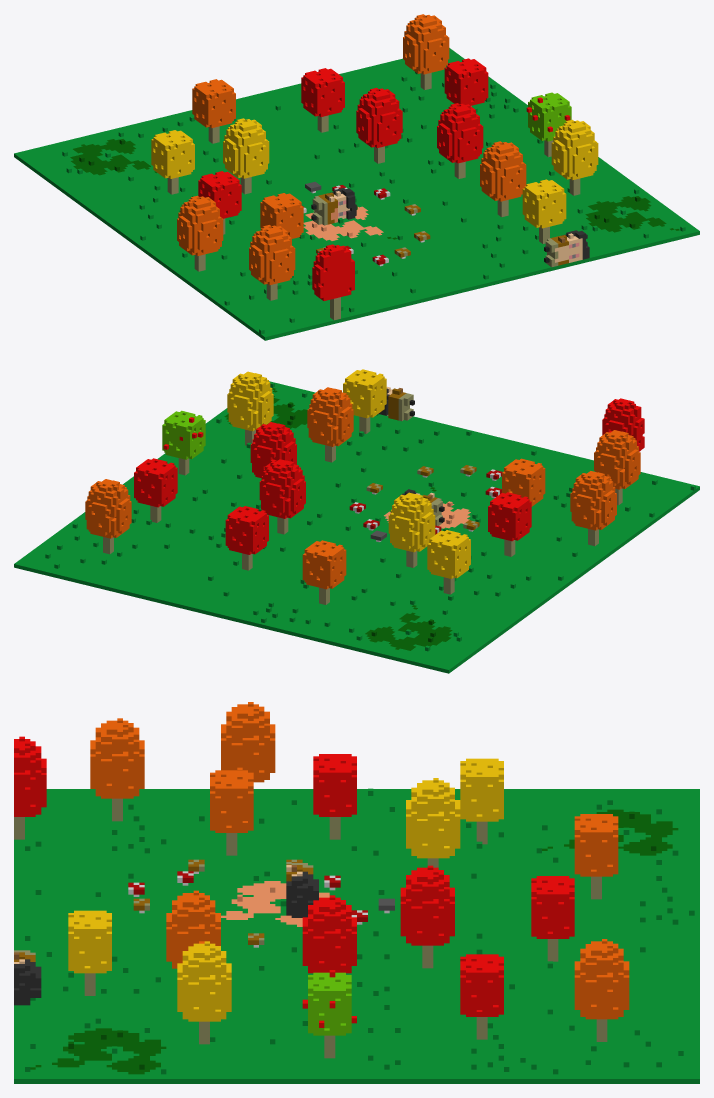
Rendered from scene_fall.fbx.
3 views of the same model, one above another, from view 1: azimuth 30°, elevation 25°; view 2: azimuth 150°, elevation 25°; view 3: azimuth 270°, elevation 25° (orthographic). The views are drawn at different scales.
Parts seen in each view (by area): view 1: scene_fall; view 2: scene_fall; view 3: scene_fall.
Part boxes in pixels (x1=…): scene_fall: x1=14, y1=14, x2=699, y2=340; scene_fall: x1=14, y1=369, x2=699, y2=673; scene_fall: x1=14, y1=702, x2=699, y2=1083.
Size of the model in its own units: 126 by 20 by 126.
